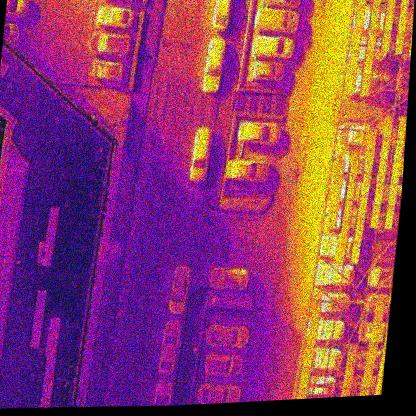Diode: (363, 149, 375, 173), (361, 172, 371, 196)
Hotspot: (342, 365, 355, 389), (333, 160, 345, 184), (366, 30, 377, 53), (369, 7, 380, 30), (373, 182, 383, 207), (373, 0, 384, 7)
Normal: (299, 366, 312, 391), (334, 243, 347, 267), (361, 364, 374, 388), (306, 321, 319, 345), (366, 342, 378, 367), (302, 344, 315, 367), (374, 298, 386, 322), (350, 240, 362, 264), (357, 195, 369, 219), (376, 159, 388, 183), (366, 127, 378, 151), (347, 342, 359, 366), (380, 30, 392, 53), (354, 217, 365, 241), (351, 27, 362, 51), (331, 183, 342, 206), (360, 74, 371, 97), (345, 72, 356, 95), (348, 50, 359, 73), (354, 5, 365, 28), (371, 320, 382, 343), (311, 300, 322, 322), (384, 206, 395, 228), (328, 205, 338, 229), (397, 115, 407, 139), (364, 51, 374, 75), (340, 221, 350, 244), (343, 198, 353, 221), (388, 184, 398, 207), (384, 8, 394, 31), (398, 9, 407, 34), (394, 138, 404, 160), (371, 205, 380, 229), (347, 174, 356, 198), (391, 160, 400, 184), (380, 138, 390, 159), (383, 116, 393, 137), (395, 33, 404, 54), (400, 0, 409, 11), (387, 0, 396, 9)
